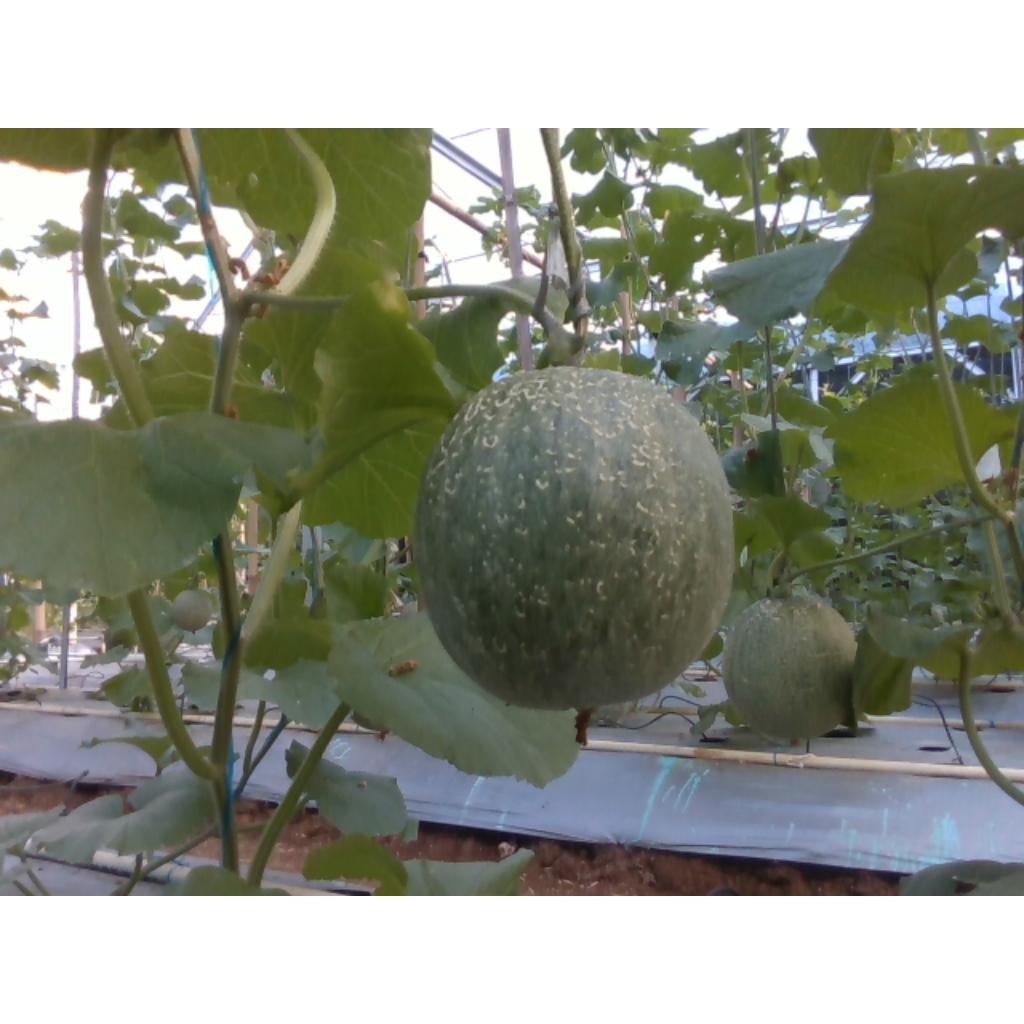melon: (414, 366, 734, 710)
